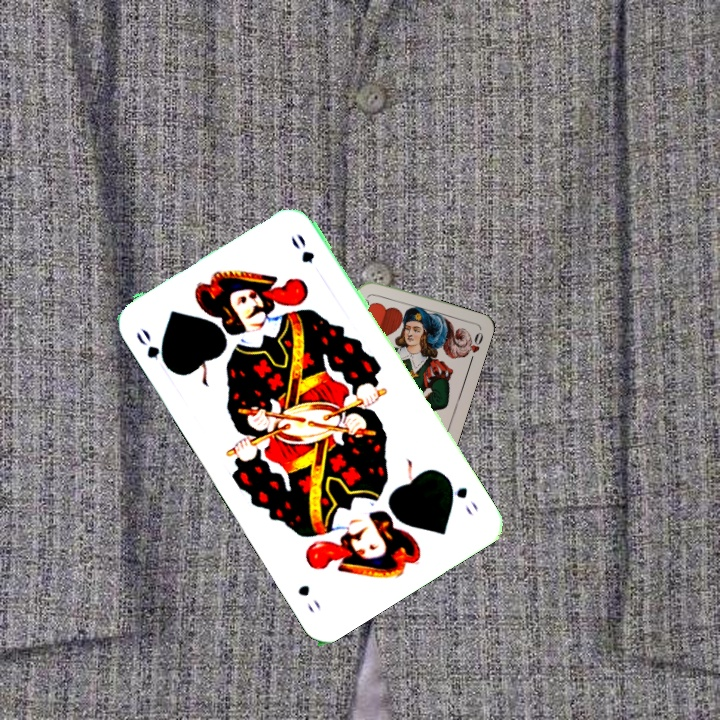GO: (132, 324, 172, 372), (441, 472, 481, 518)
